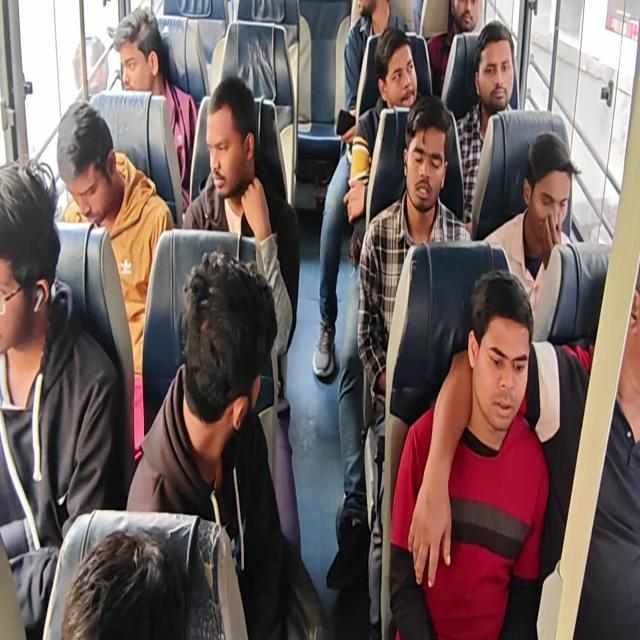person: (1, 1, 637, 638), (429, 255, 639, 638), (126, 249, 326, 638), (356, 94, 473, 636), (388, 269, 550, 638), (0, 160, 124, 638), (181, 76, 301, 556), (56, 100, 174, 453), (312, 24, 420, 378), (556, 256, 640, 638), (343, 26, 420, 268), (482, 130, 579, 318), (112, 7, 198, 212), (61, 525, 188, 639), (454, 21, 517, 228), (342, 0, 406, 115), (426, 0, 480, 97)
